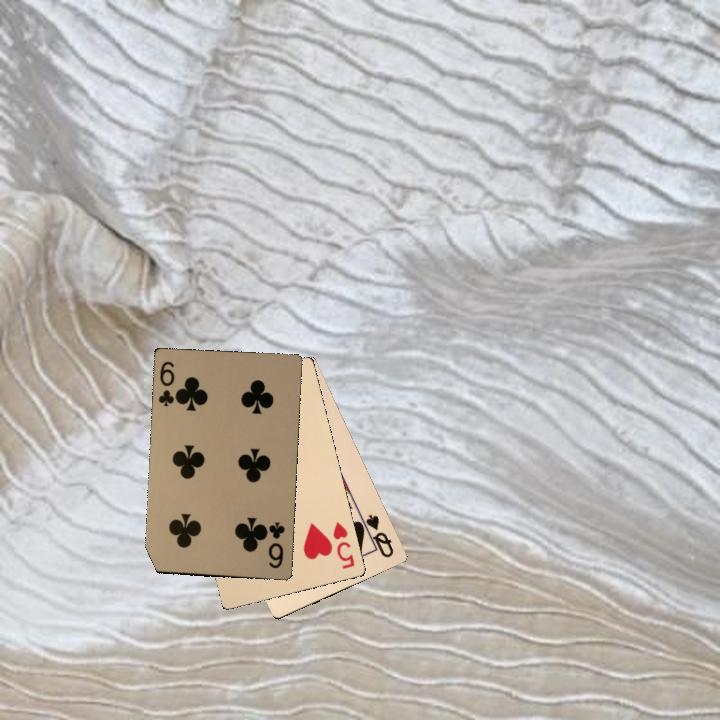5h: (329, 518, 357, 571)
6c: (154, 357, 182, 409), (263, 518, 287, 571)
Qs: (356, 510, 396, 560)
